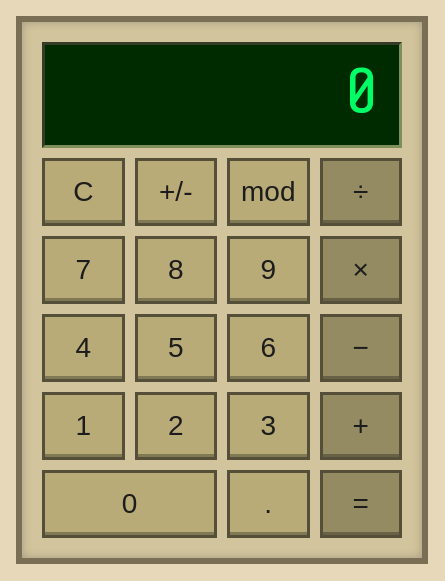
it: Calculator Functional Tests › should perform chained operations: 2 + 3 × 4 = 12 (secuencial)
Click the button "2".
click(176, 426)  # box [134, 392, 217, 460]
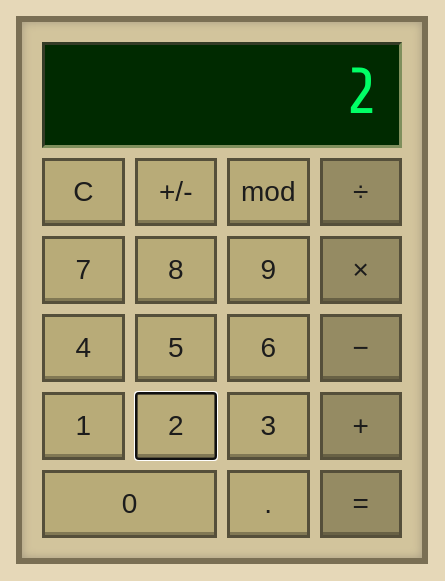
Click the button "+".
click(361, 426)  # box [320, 392, 402, 460]
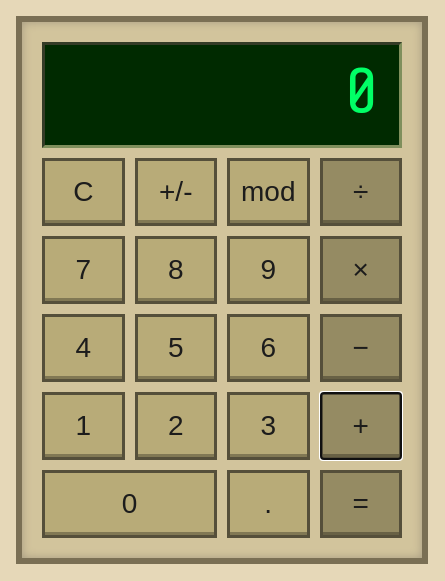
Click the button "3".
click(268, 426)  # box [227, 392, 310, 460]
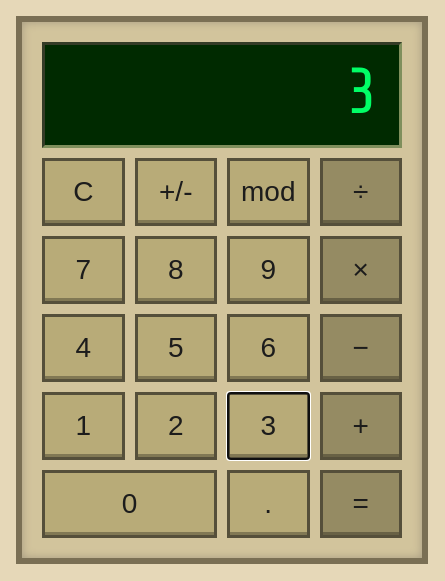
Click the button "×".
click(361, 270)  # box [320, 236, 402, 304]
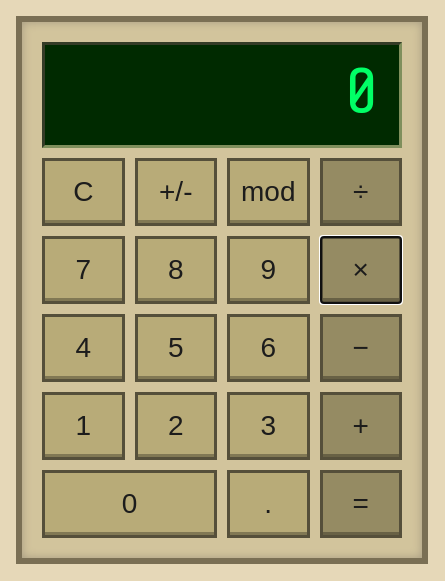
Click the button "4".
click(83, 348)  # box [42, 314, 124, 382]
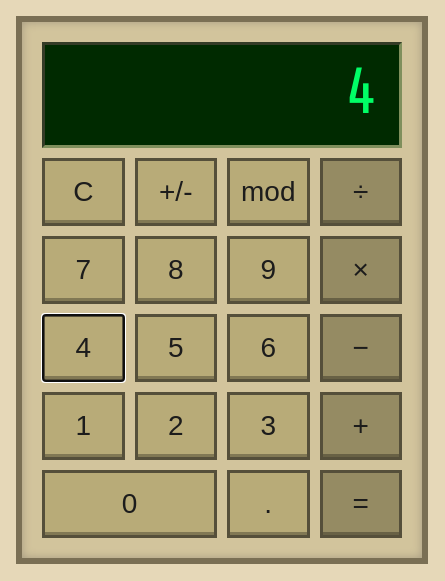
Click the button "=".
click(361, 504)  # box [320, 470, 402, 538]
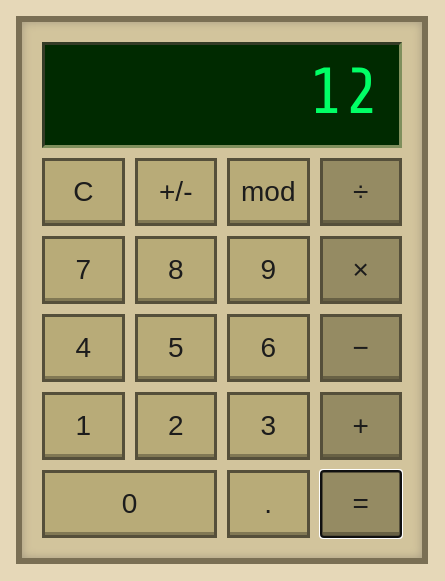
Check: the text with test id "display" reads "12", box [309, 55, 379, 129]
